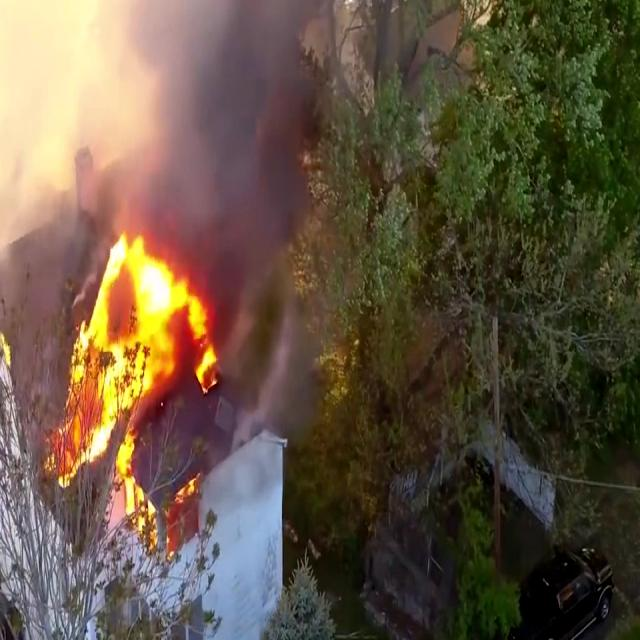fire: (57, 240, 225, 424)
smoke: (93, 0, 285, 229)
